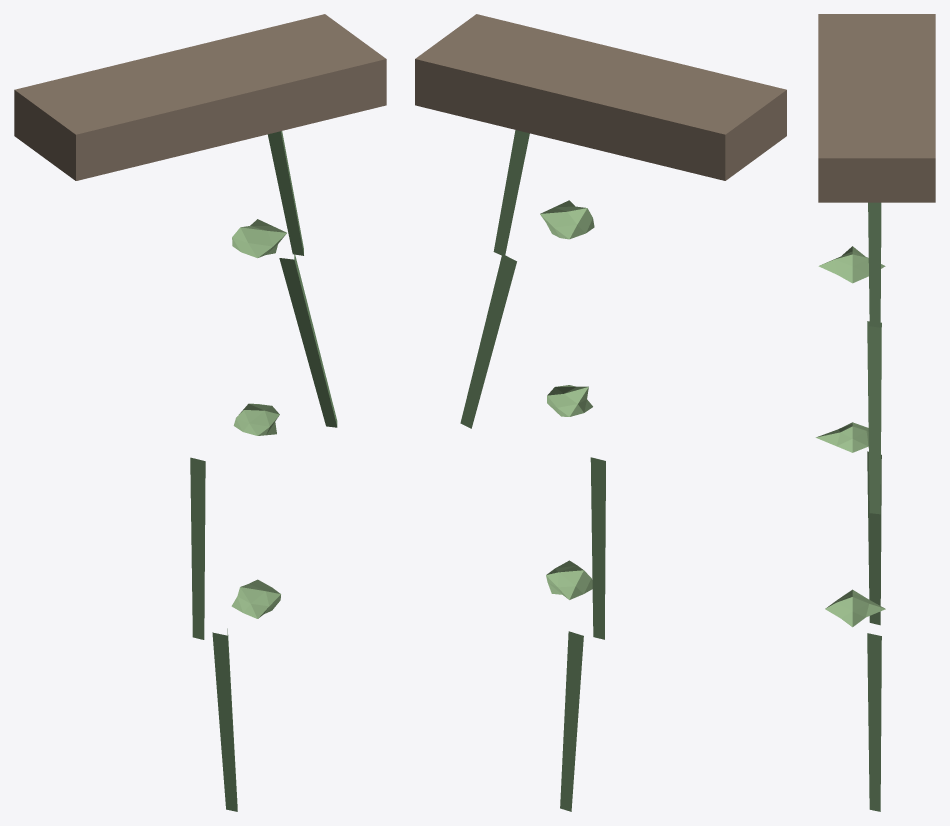
The model's file is vine_v03.glb.
The picture shows the model from 3 angles, left to right: view 1: azimuth 30°, elevation 25°; view 2: azimuth 150°, elevation 25°; view 3: azimuth 270°, elevation 25°; orthographic projection. The views are drawn at different scales.
Parts seen in each view (by area): view 1: lod0; view 2: lod0; view 3: lod0.
Boxes of the visible parts, <box> form: lod0: <box>14,14,386,811</box>; lod0: <box>415,14,786,811</box>; lod0: <box>816,14,935,811</box>.
Size of what is drawn, in the model's own units: 0.7 by 1.6 by 0.2461.
